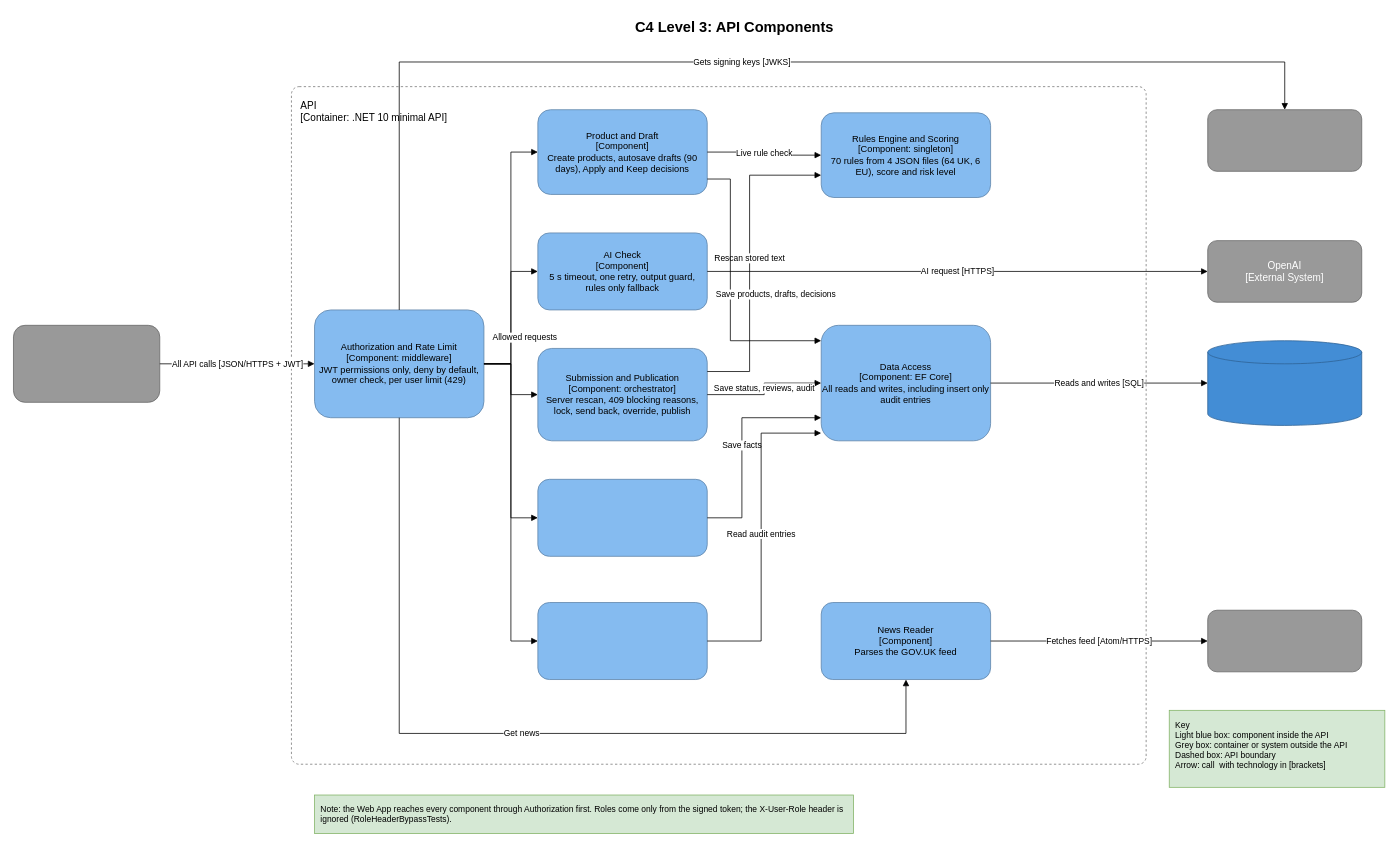
Image size: 1398x847. Some labels were removed from this diagram. The centre of each missing label's shape, as x and y in pixels:
"Audit Trail [Component] Filtered view and CSV export" goes at point (622, 641).
"Auth0 [External System]" goes at point (1284, 140).
"Azure SQL [Container: database]" goes at point (1284, 382).
"Facts Requests [Component] Requests and verified facts" goes at point (622, 517).
"GOV.UK feed [External System]" goes at point (1284, 640).
"Web App [Container: React SPA]" goes at point (86, 363).
